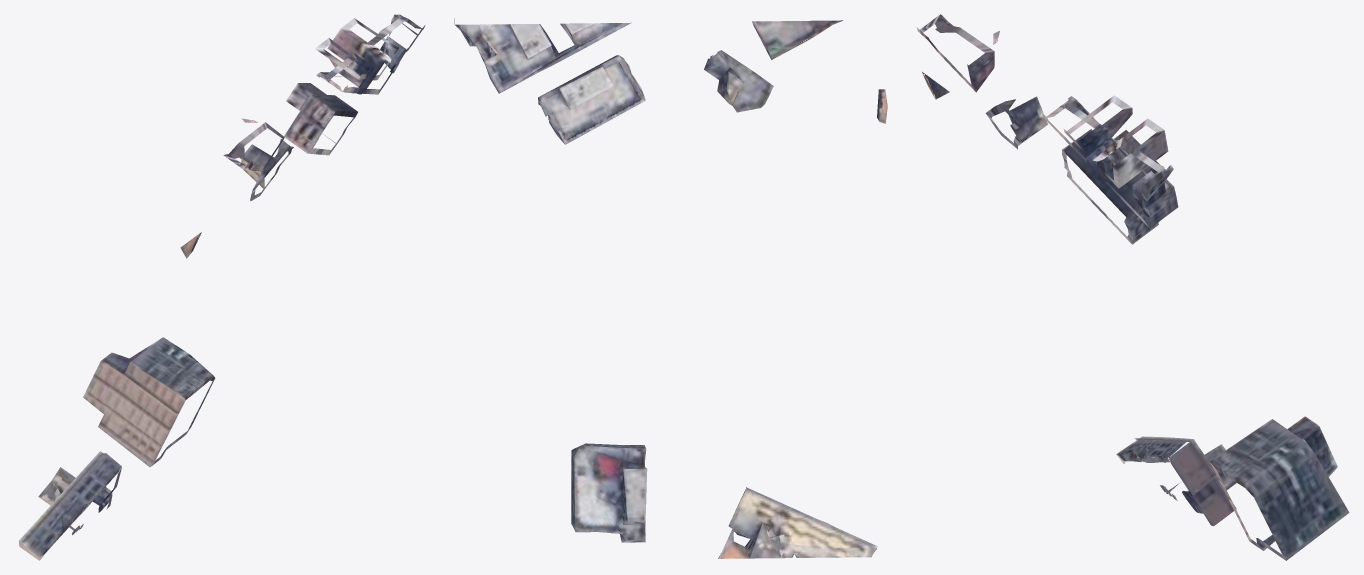
3 views of the same model, side by side, from view 1: azimuth 30°, elevation 25°; view 2: azimuth 150°, elevation 25°; view 3: azimuth 270°, elevation 25° (orthographic). The views are drawn at different scales.
Bounding box in the file's own units: 138 × 145 × 109.
Materials: 1 (1 with a texture image).
